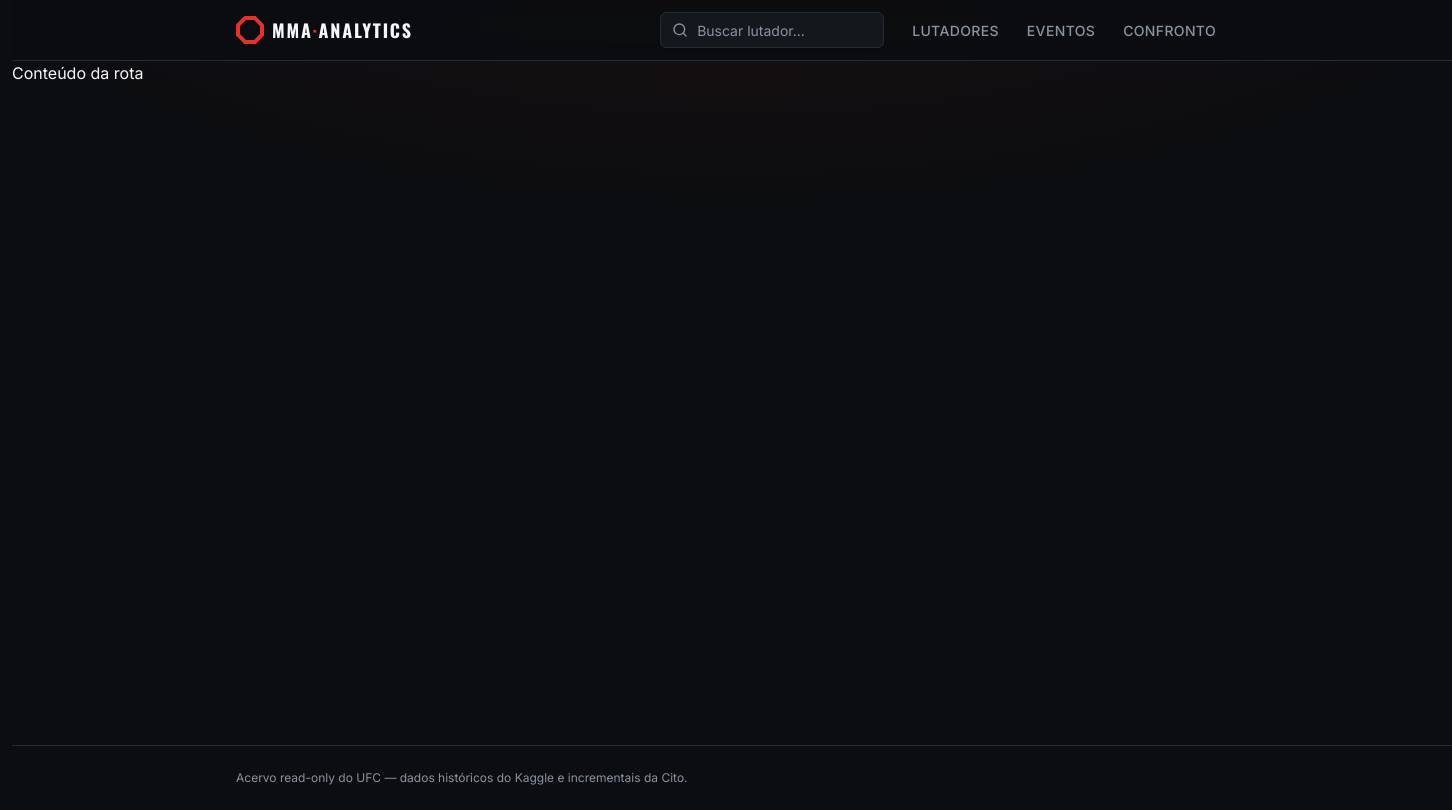
AppLayout — busca permanente no cabeçalho › submeter a busca leva a /fighters propagando o termo como `q`
In the search field labelled "Buscar lutador...": (772, 30) x1=660 y1=12 x2=884 y2=48, type "jones"
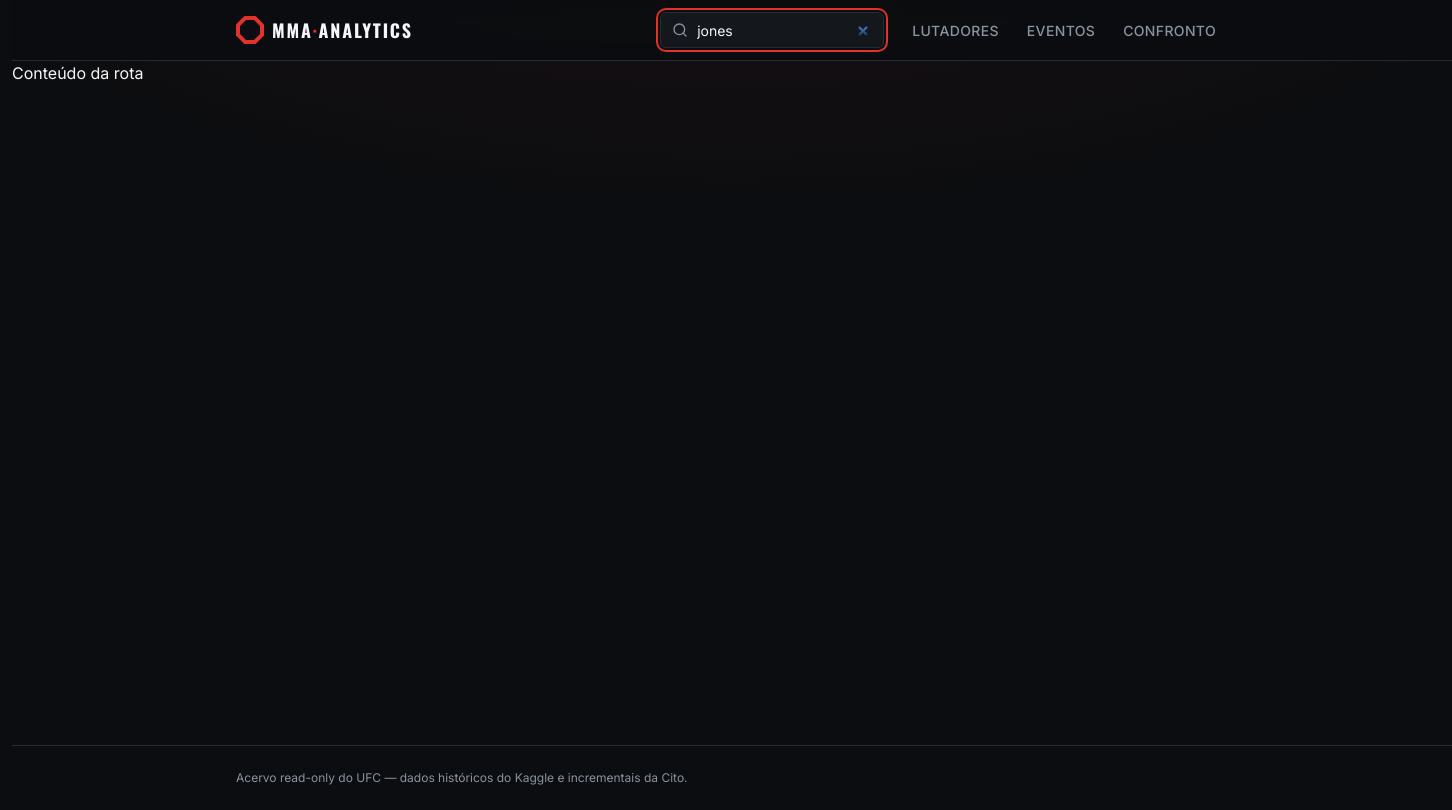
Press Enter
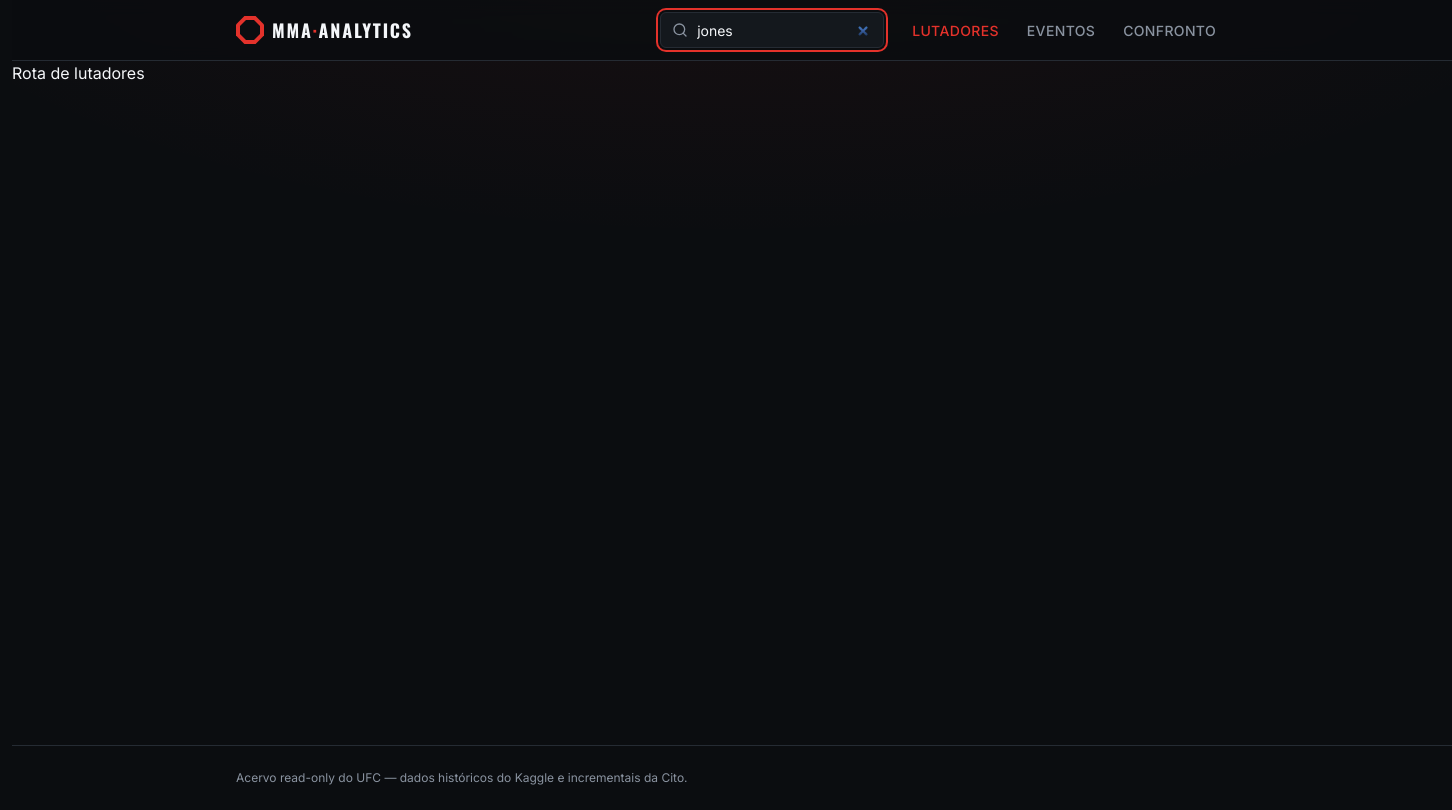
Check: the text "Rota de lutadores" is shown, box x1=12 y1=63 x2=145 y2=83
